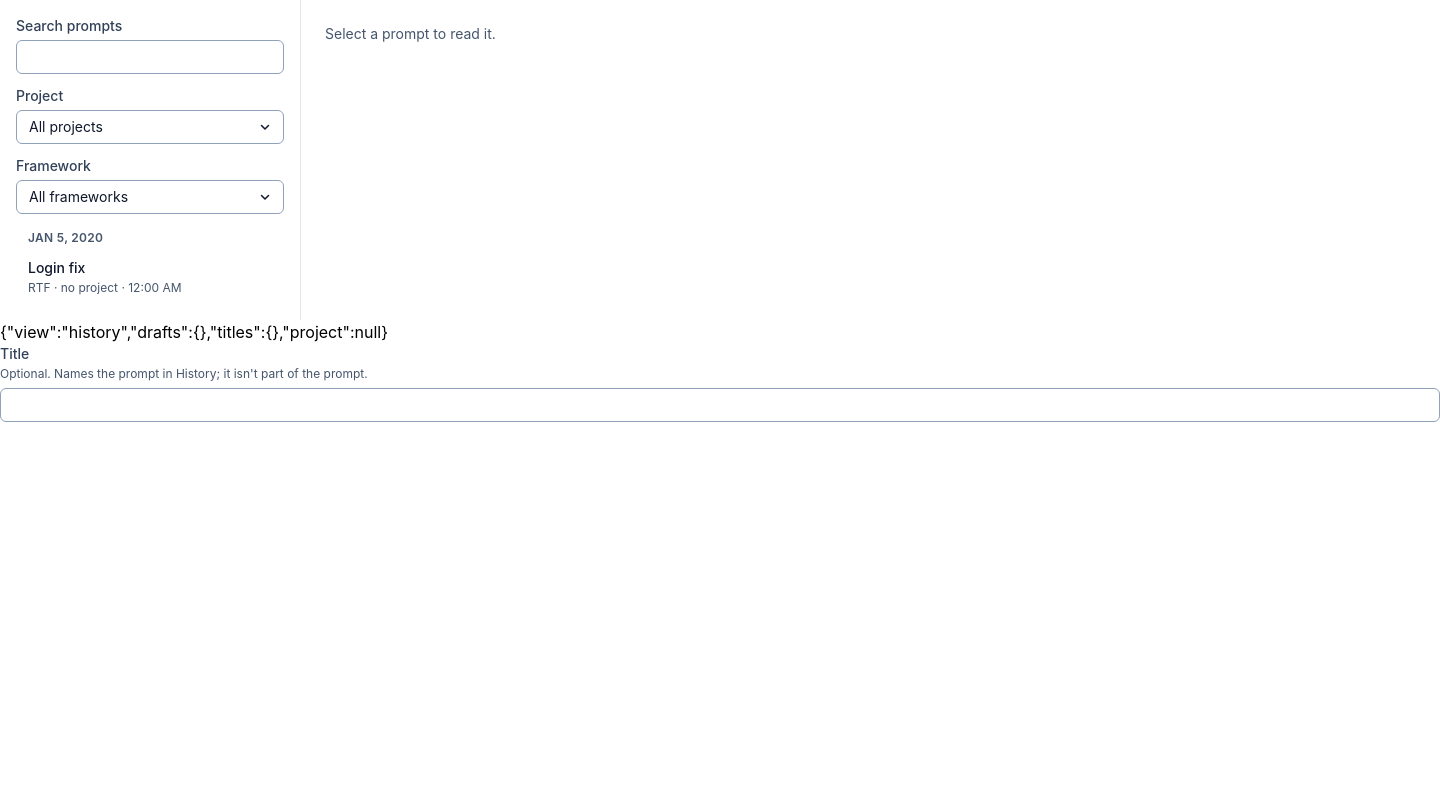
Test case: OpenInBuilder › a deleted framework › open_in_builder_offers_to_bring_back_a_deleted_framework
The width and height of the screenshot is (1440, 810).
Click the button "Login fix RTF · no project · 12:00 AM". click: click(150, 277)
box: [16,250,284,304]
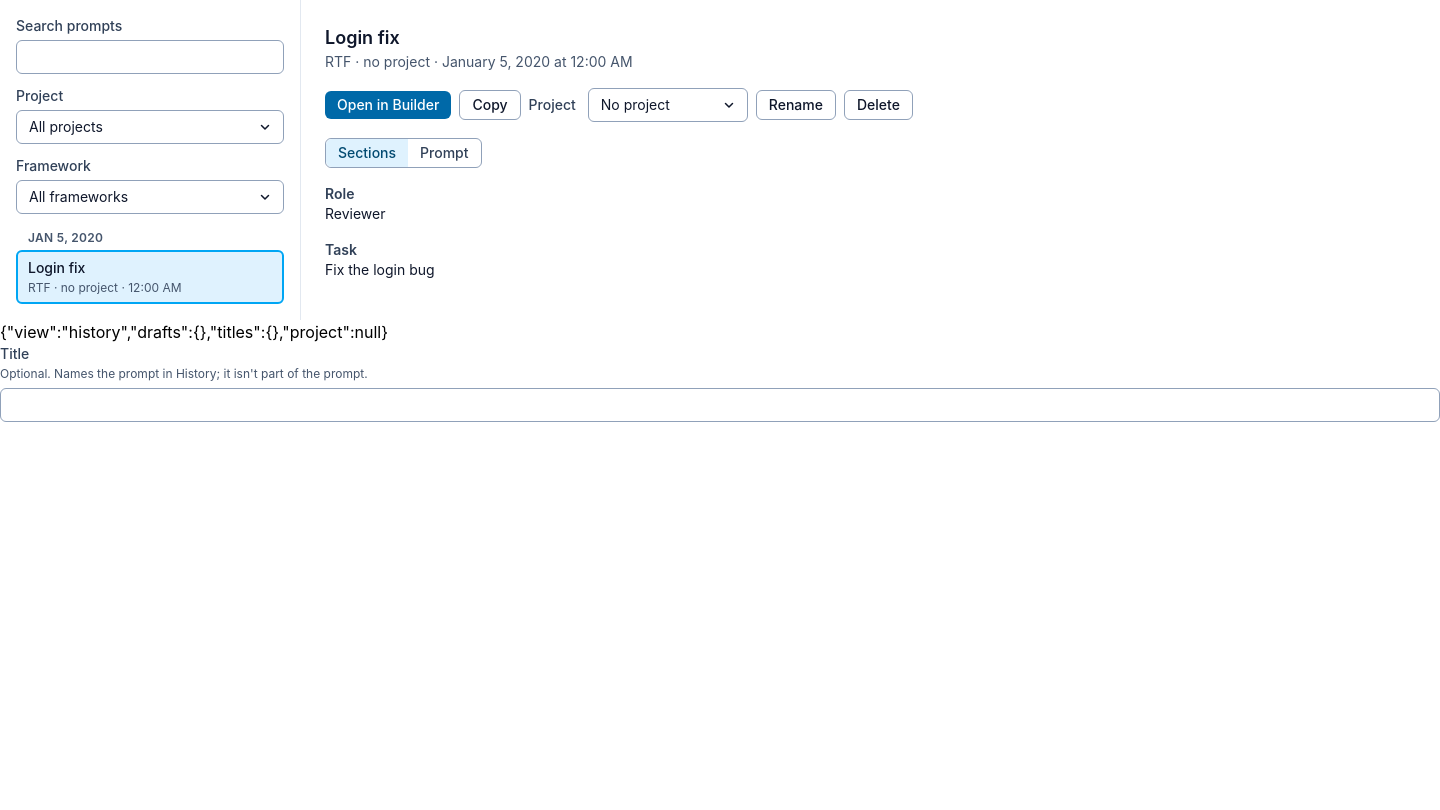
Click the button "Open in Builder". click: click(388, 105)
box: [325,91,451,119]
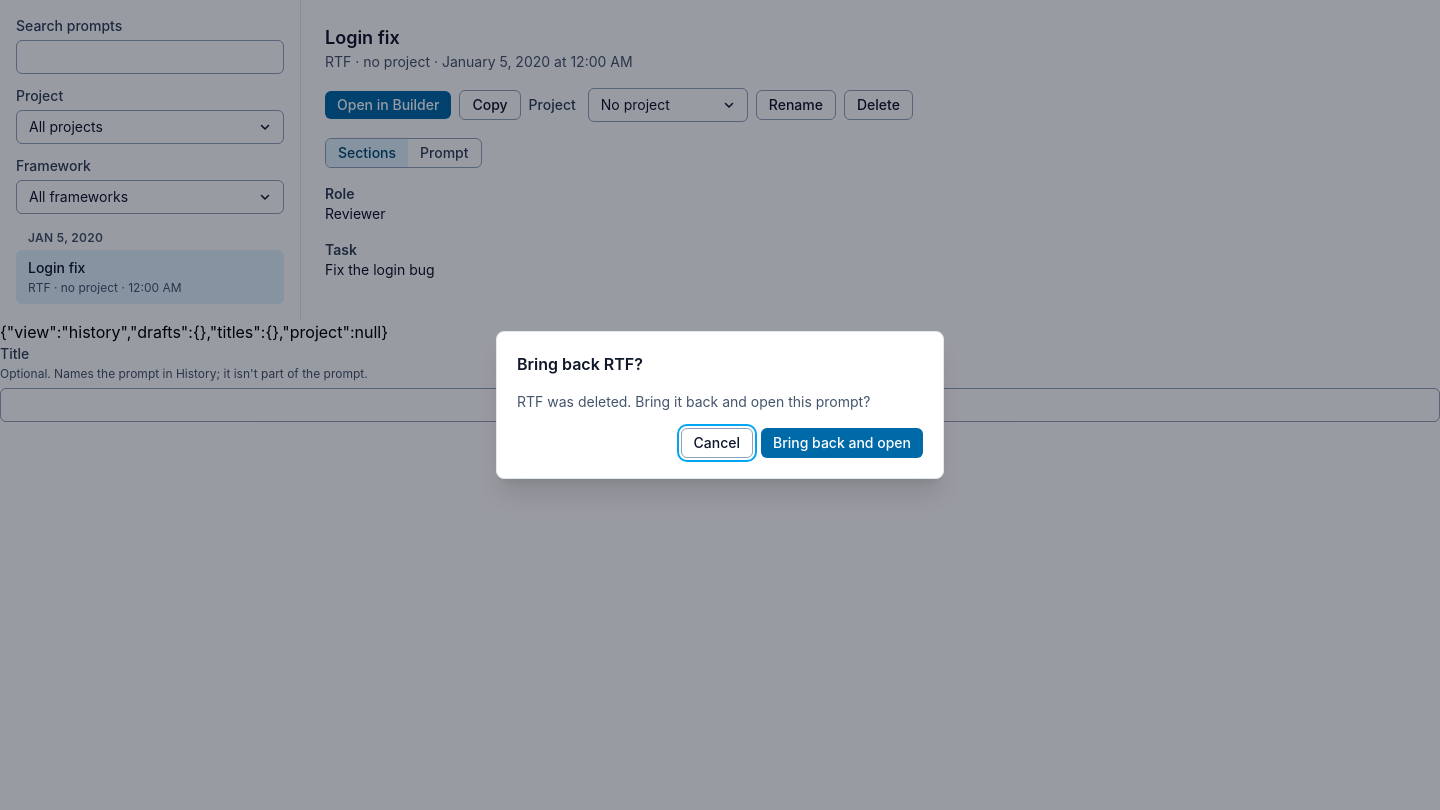
Now the heading "Bring back RTF?" is shown, box [517,354,643,374]
Now the text "RTF was deleted. Bring it back and open this prompt?" is shown, box [517,392,923,412]
Now the button "Bring back and open" is shown, box [761,428,923,458]
